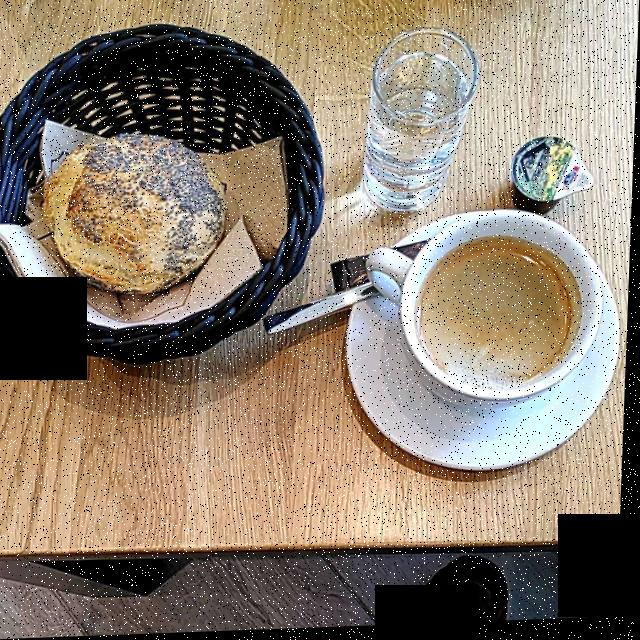coffee-with-caffeine: (424, 248, 578, 387)
water: (368, 66, 465, 206)
